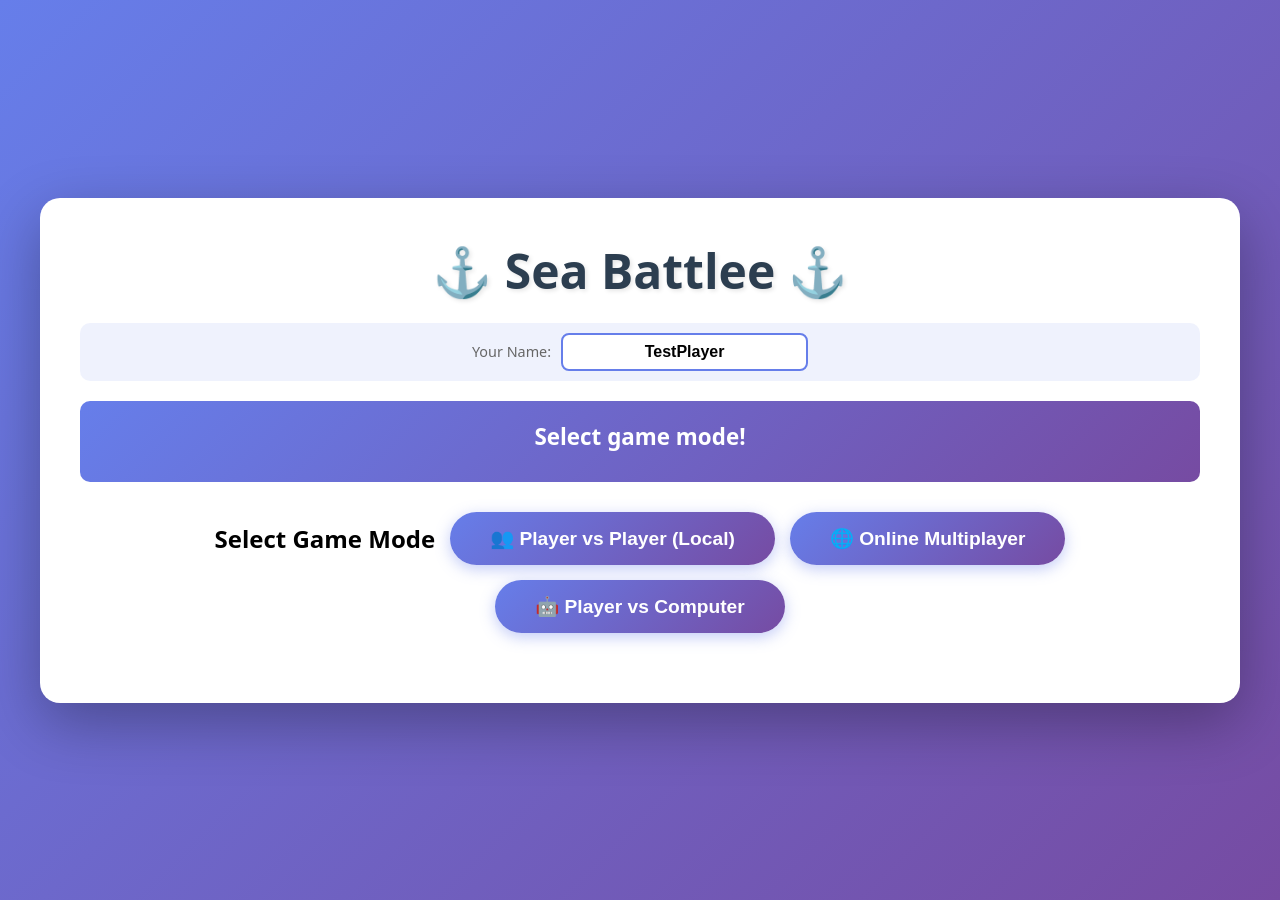
Scenario: App › starts computer game when clicking computer mode button
This screenshot has width=1280, height=900.
Click the button "🤖 Player vs Computer": (640,606) [495,580,785,632]
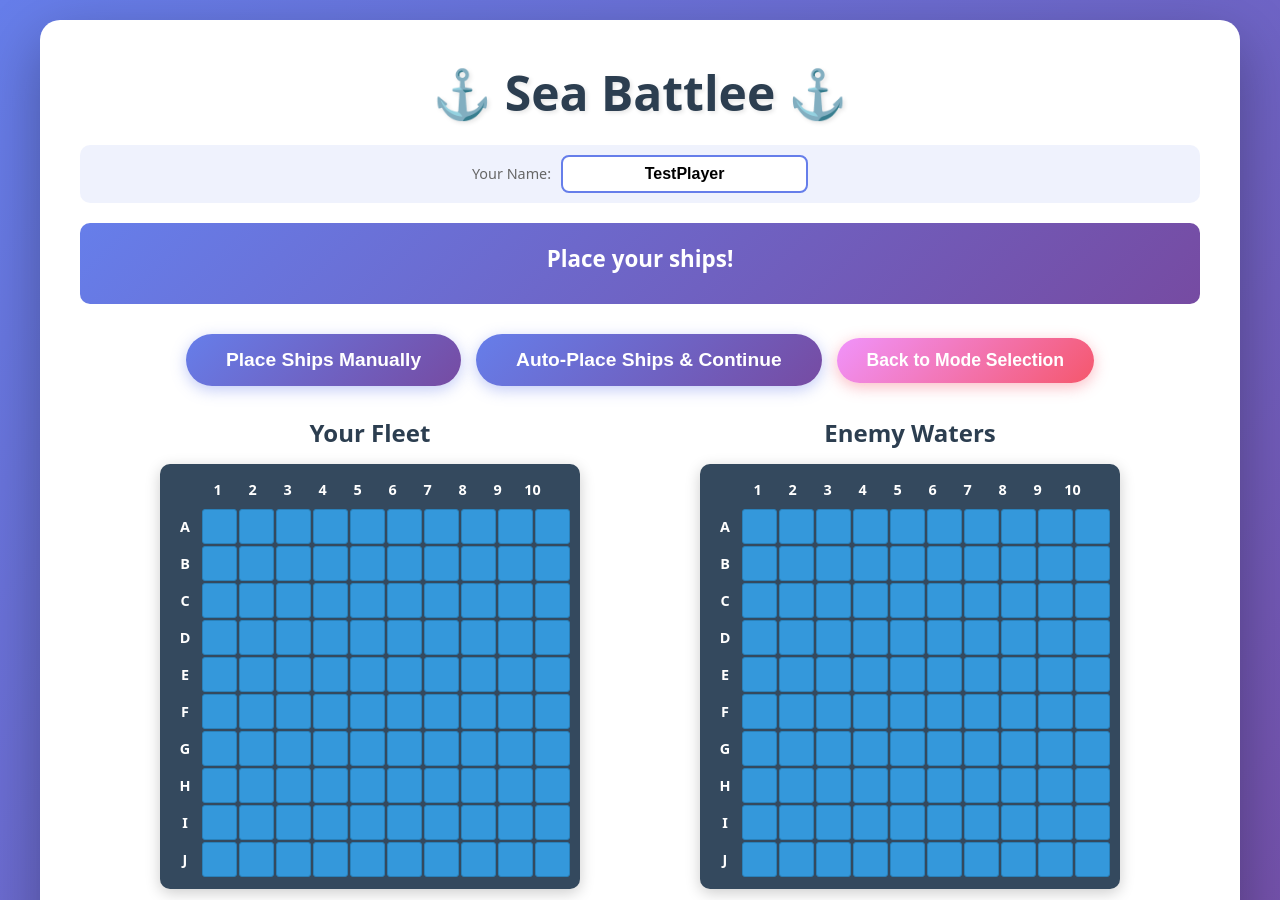
Result: the text "Select game mode" is gone
